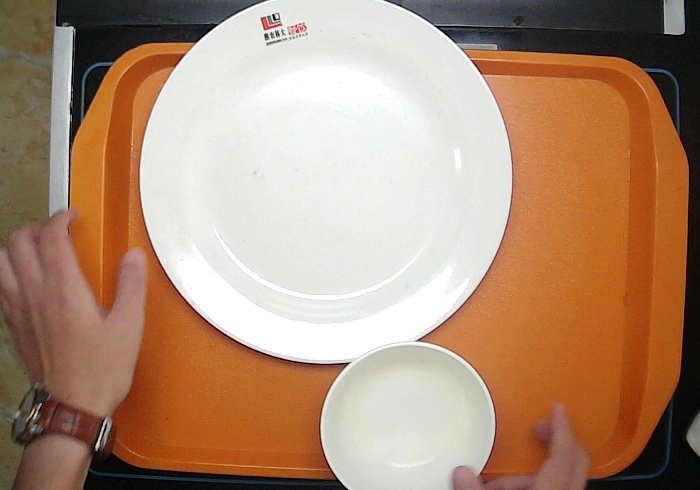ZNLD-Da_Yuan_Pan: (136, 1, 515, 366)
ZNLD-Fan_Wan: (319, 337, 498, 490)
